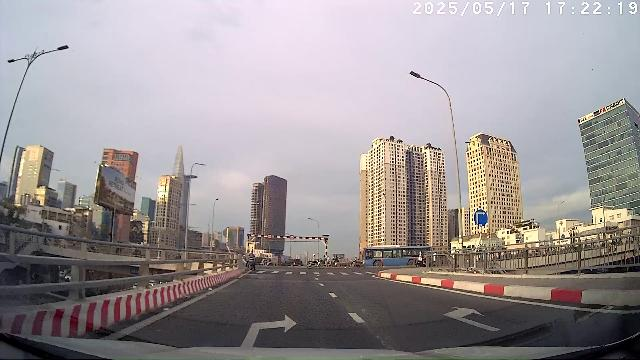301d-cac-xe-chi-duoc-re-phai-2: (473, 209, 488, 226)
